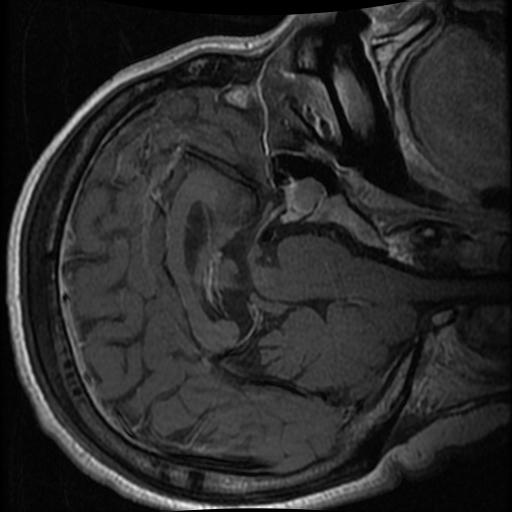pituitary tumour: (280, 180, 319, 223)
